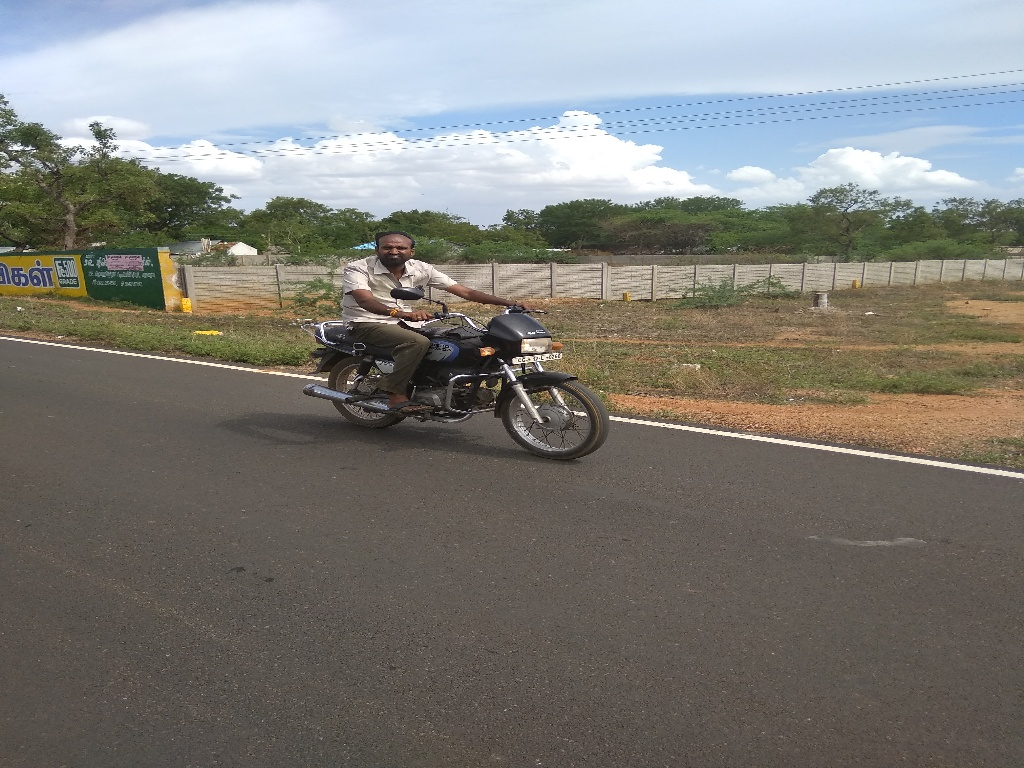biker: (283, 197, 627, 471)
nohelmet: (361, 216, 432, 281)
